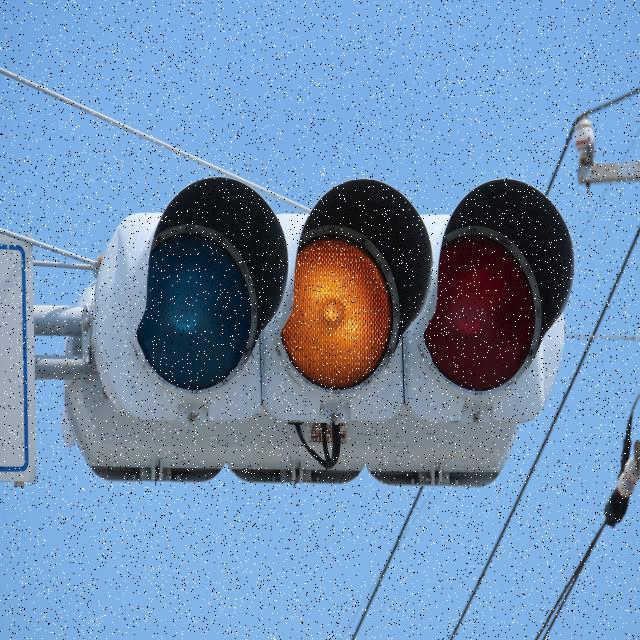Yellow-traffic-light: (297, 183, 410, 405)
